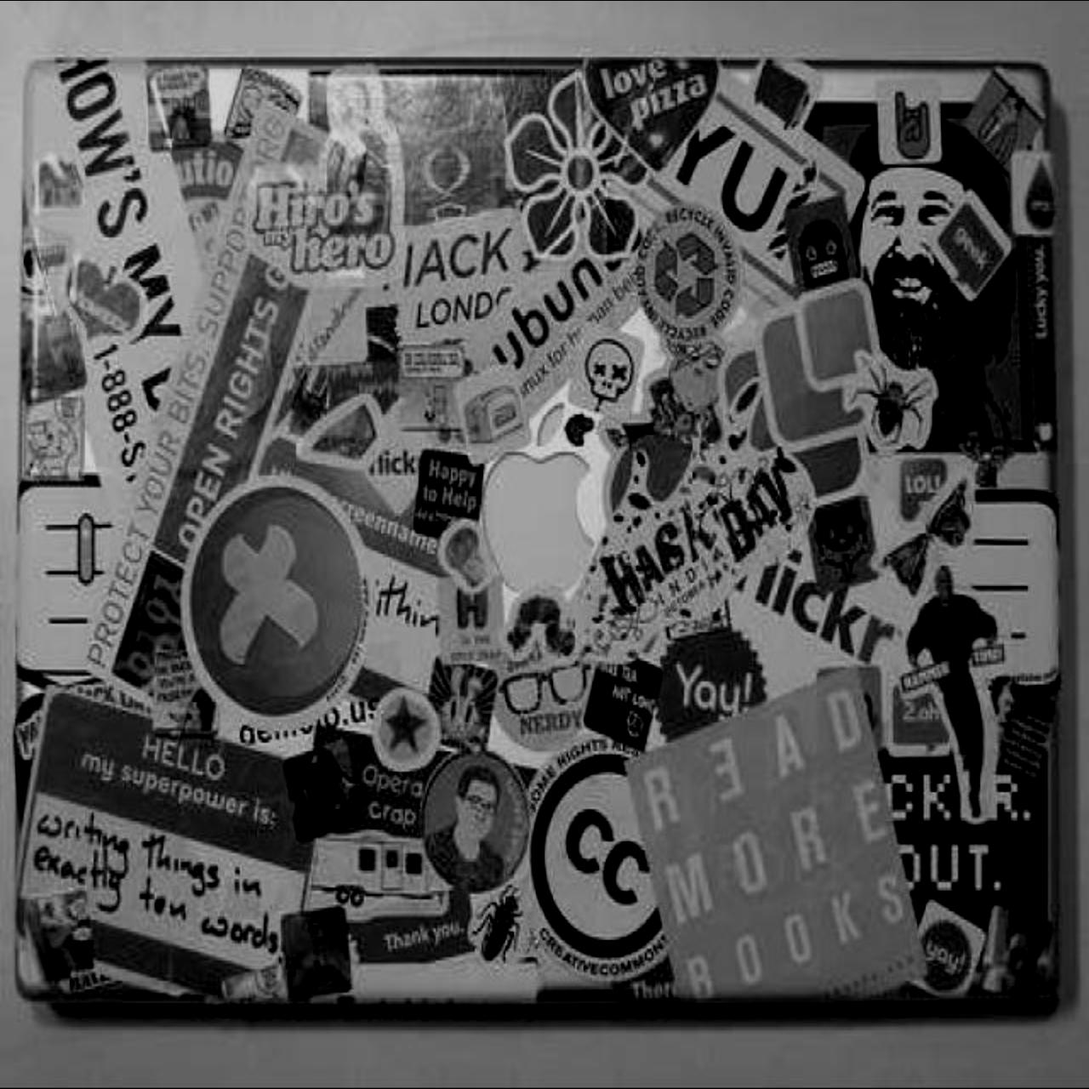laptop: (35, 70, 1061, 1012)
